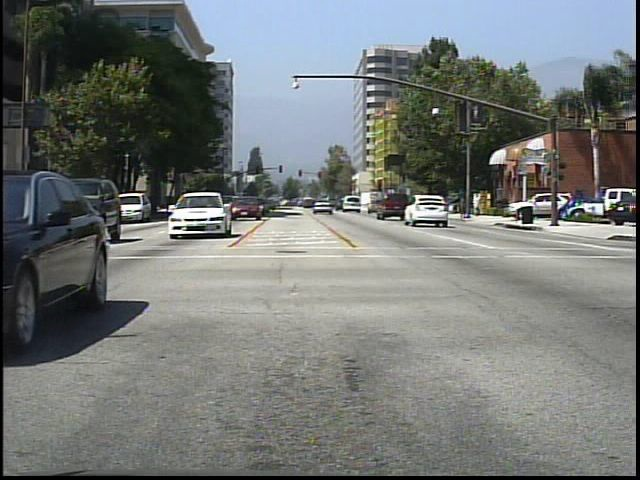person: (436, 191, 450, 220), (473, 190, 485, 219)
